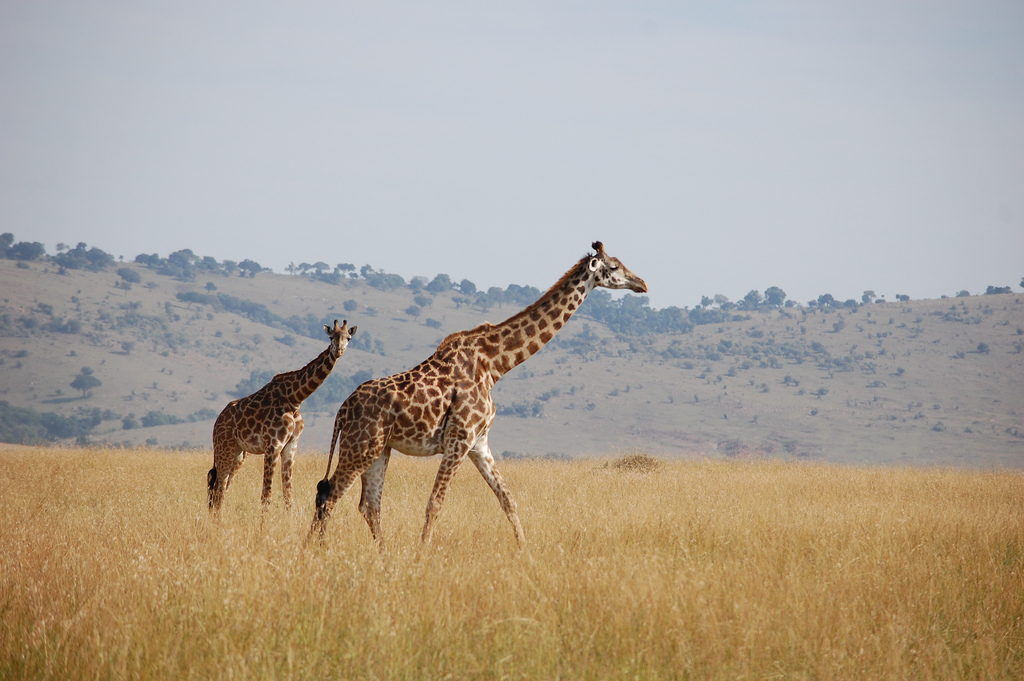giraffe: (297, 234, 682, 559), (173, 305, 382, 534)
